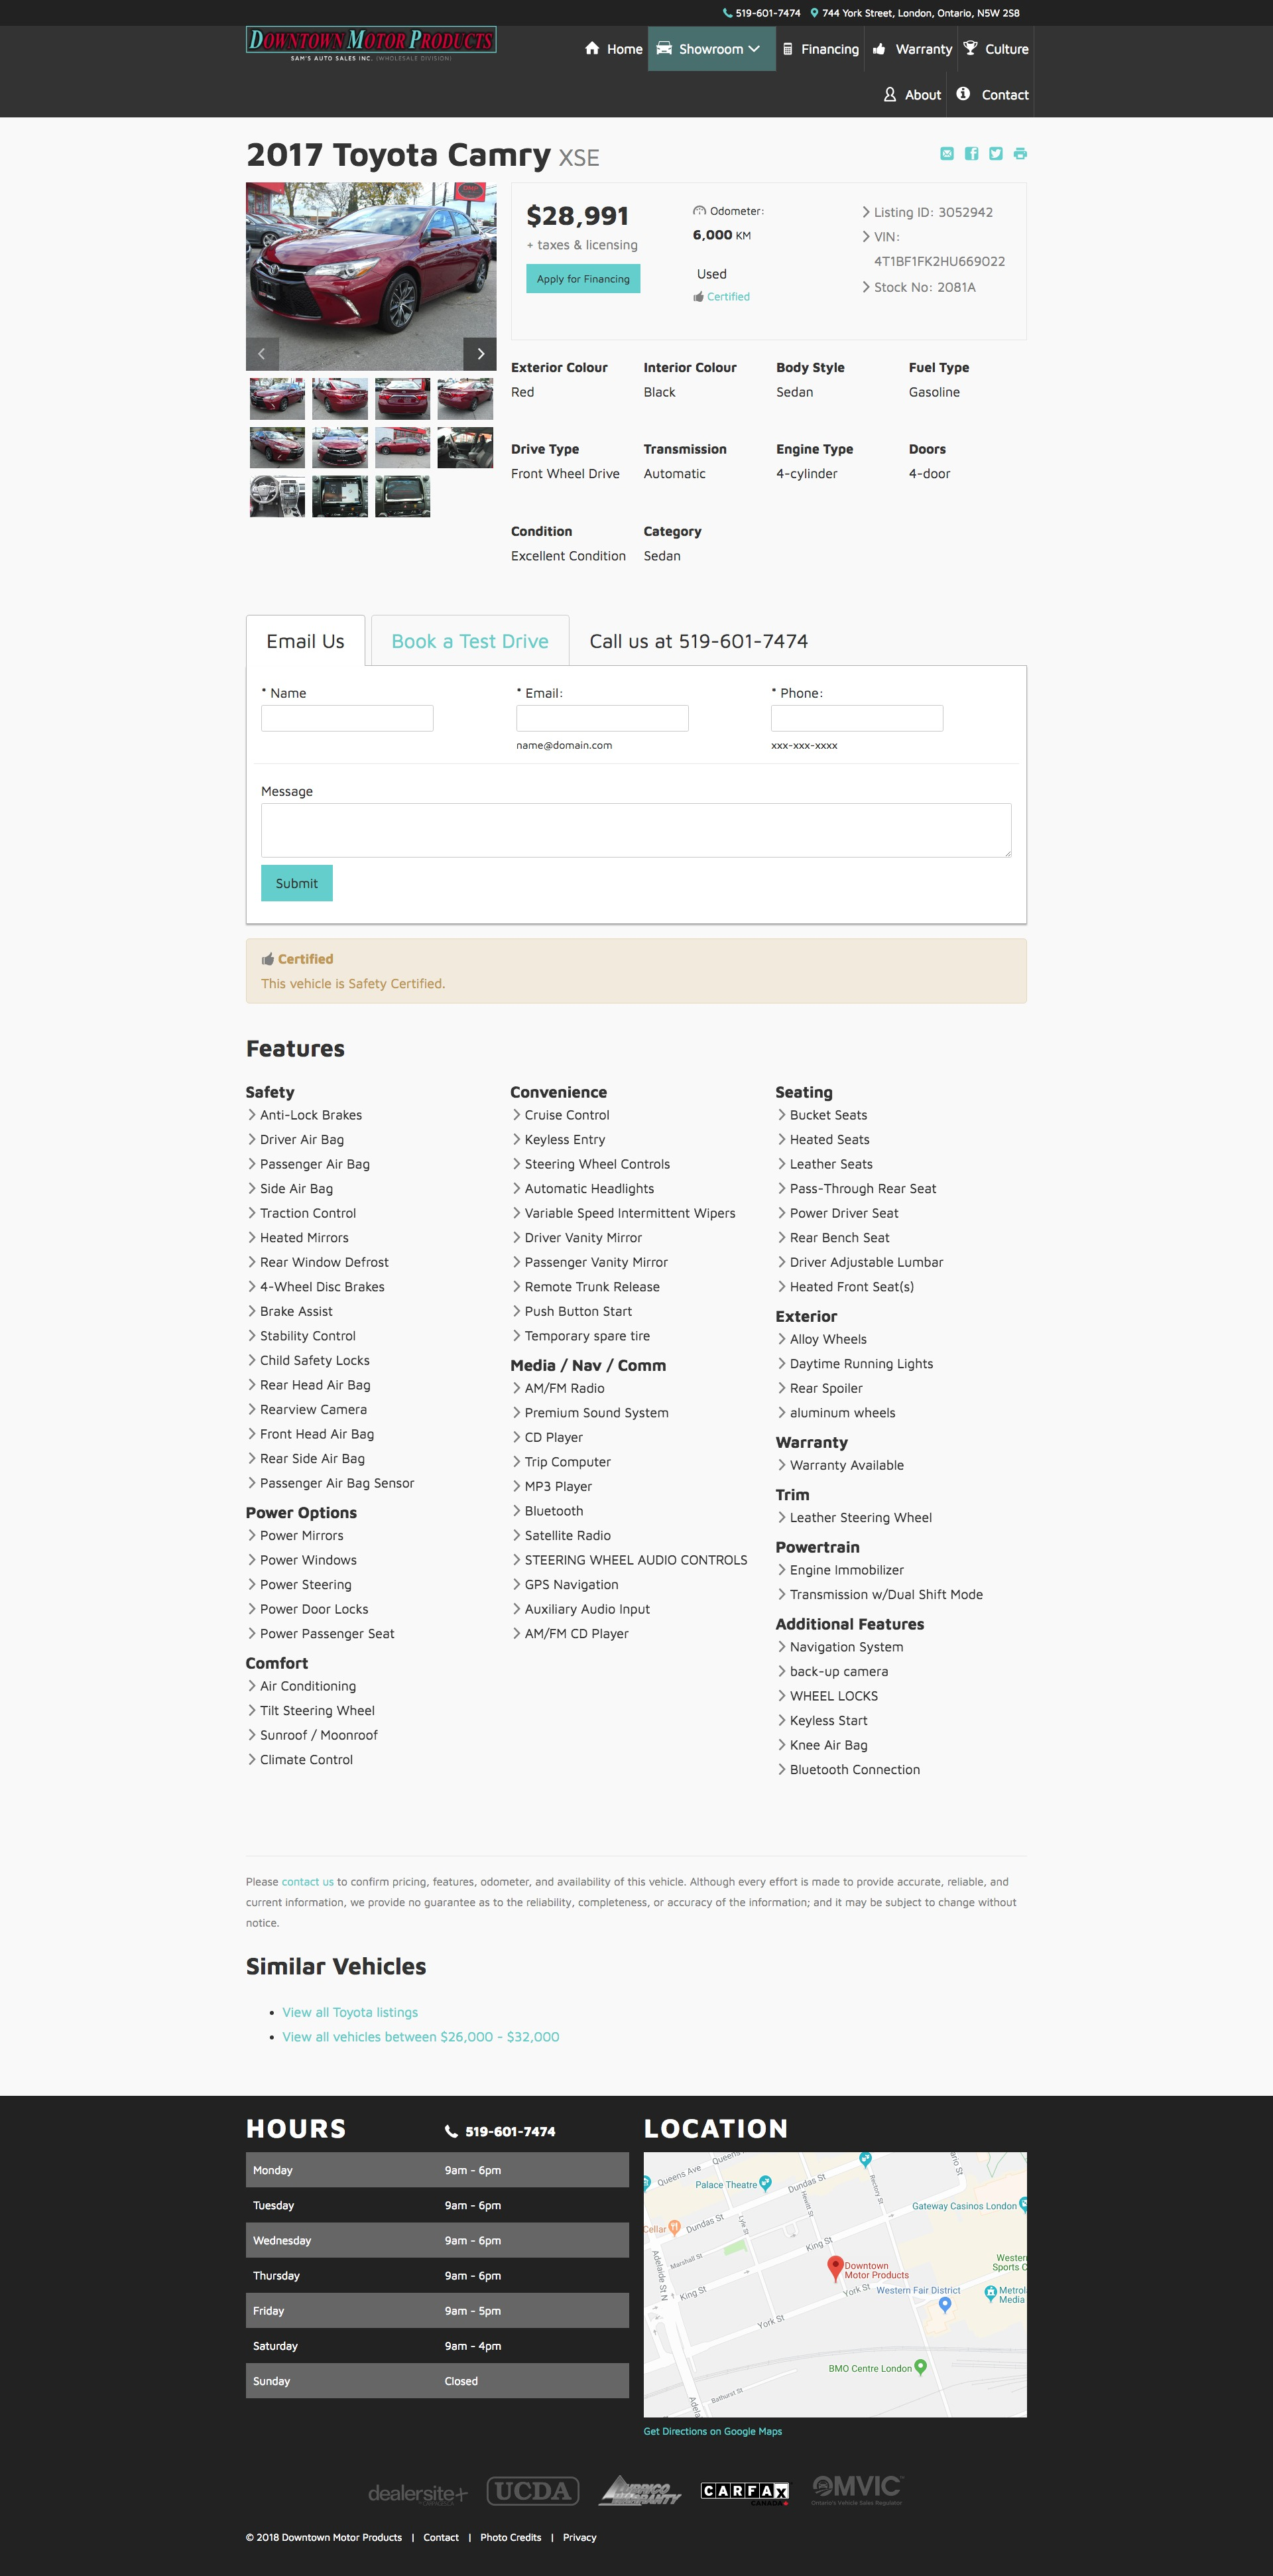car: (462, 337, 499, 373)
